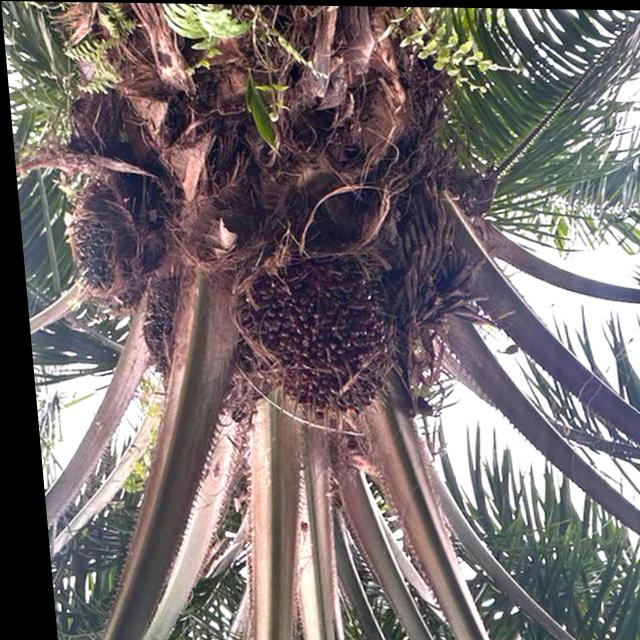ripe: (201, 240, 417, 439)
